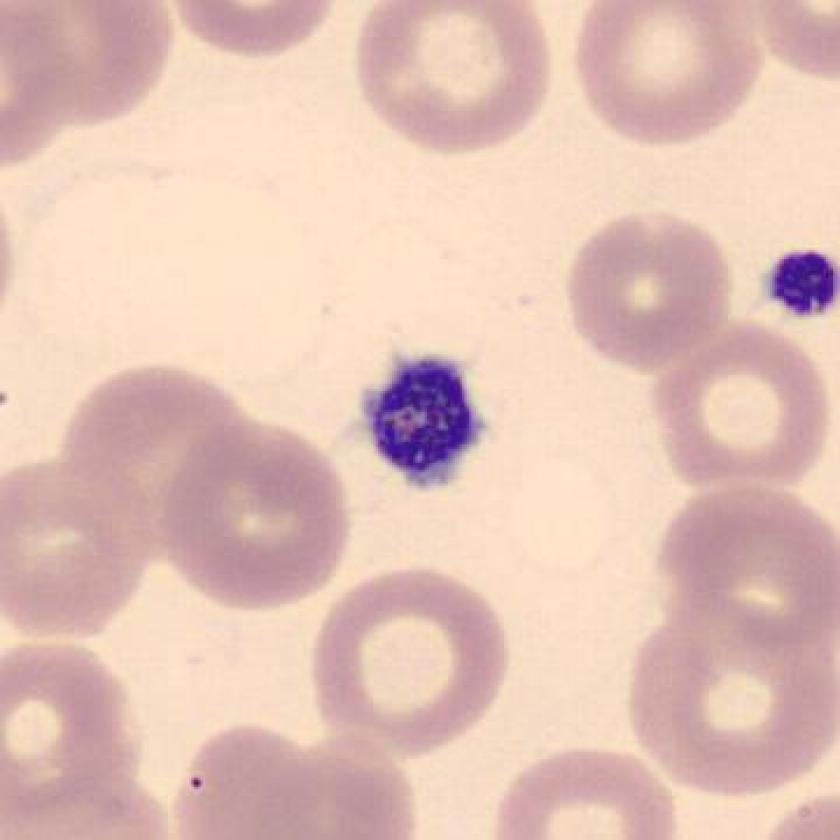platelets: (354, 344, 501, 503), (759, 244, 840, 334)
